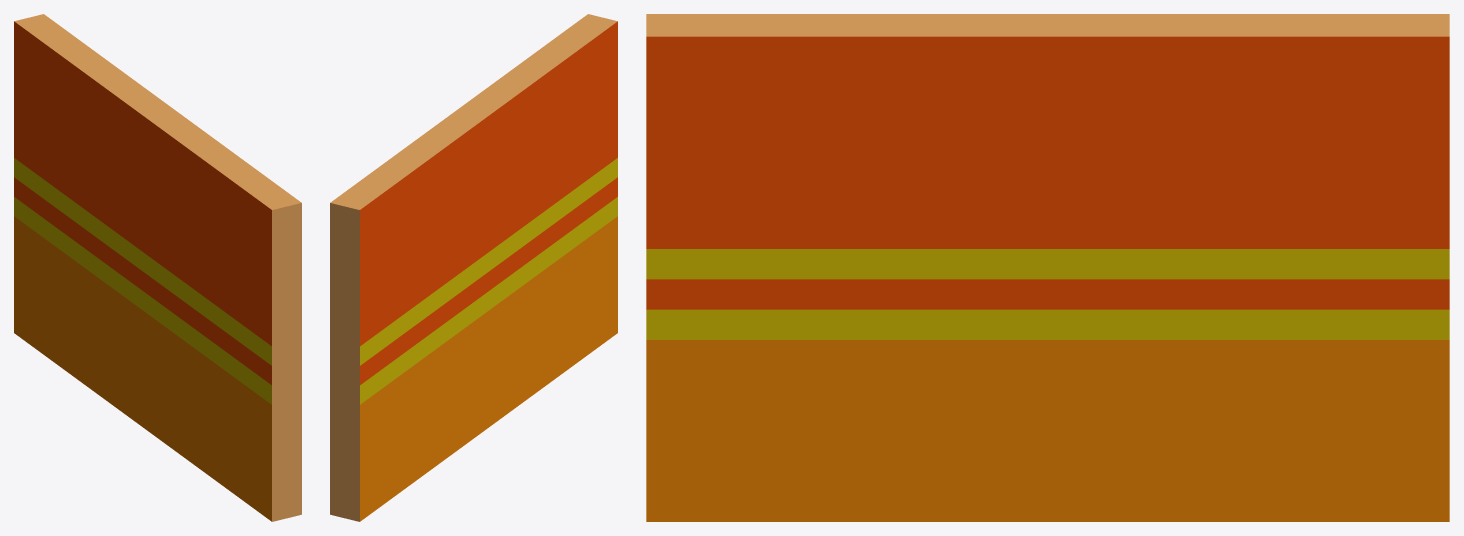
Rendered from Wall.fbx.
3 renders of one model, left to right at view 1: azimuth 30°, elevation 25°; view 2: azimuth 150°, elevation 25°; view 3: azimuth 270°, elevation 25°, orthographic. The views are drawn at different scales.
Visible parts, largest first — view 1: Wall; view 2: Wall; view 3: Wall.
Part boxes in pixels (x1,y1,x2,y2): Wall: (14,14,301,521); Wall: (330,14,617,521); Wall: (646,14,1449,521).
Size of the model in its own units: 20 by 200 by 300.
